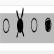correct: (44, 16, 52, 35)
no answer: (2, 16, 10, 36), (30, 15, 38, 34)
not correct: (16, 7, 24, 39)
